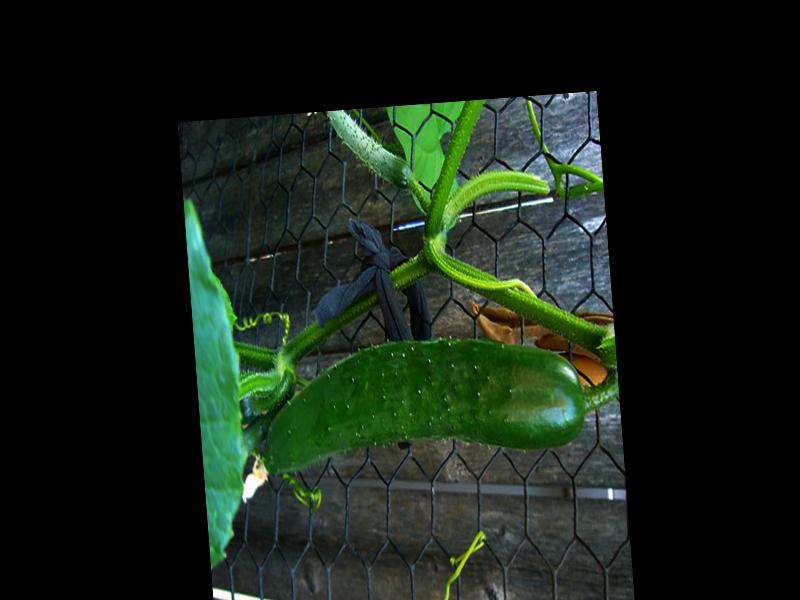Cucumber: (257, 325, 587, 476)
